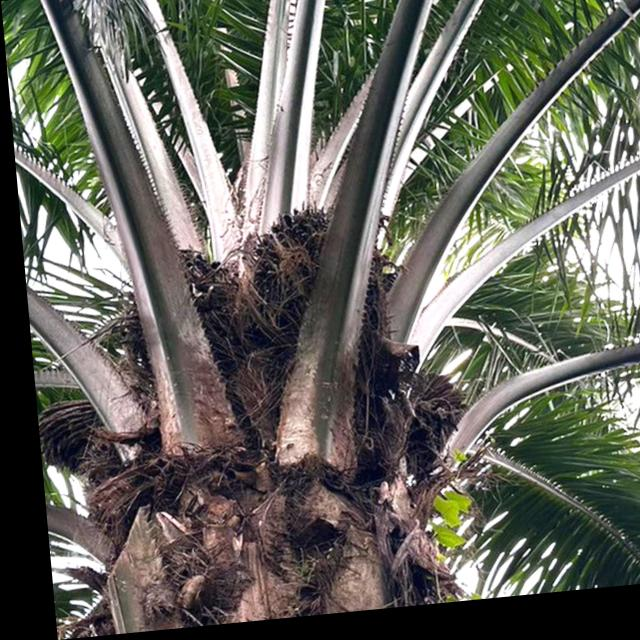unripe: (232, 196, 391, 395)
